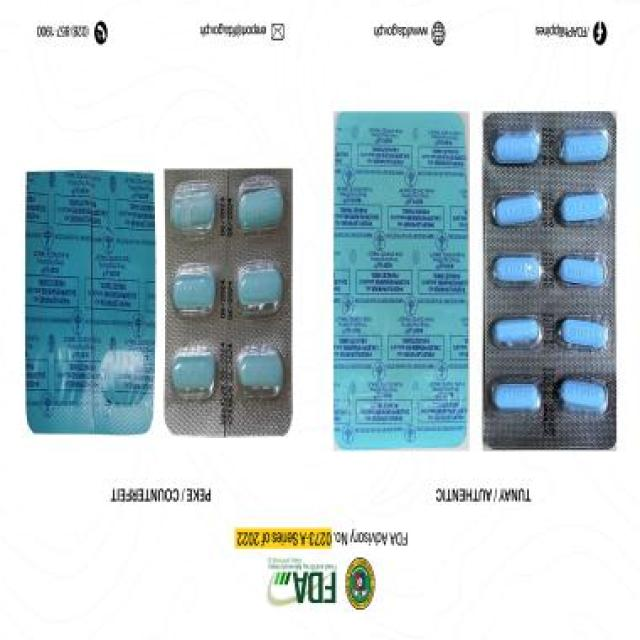Bioflu_Strip: (476, 102, 619, 461), (159, 160, 301, 430)
